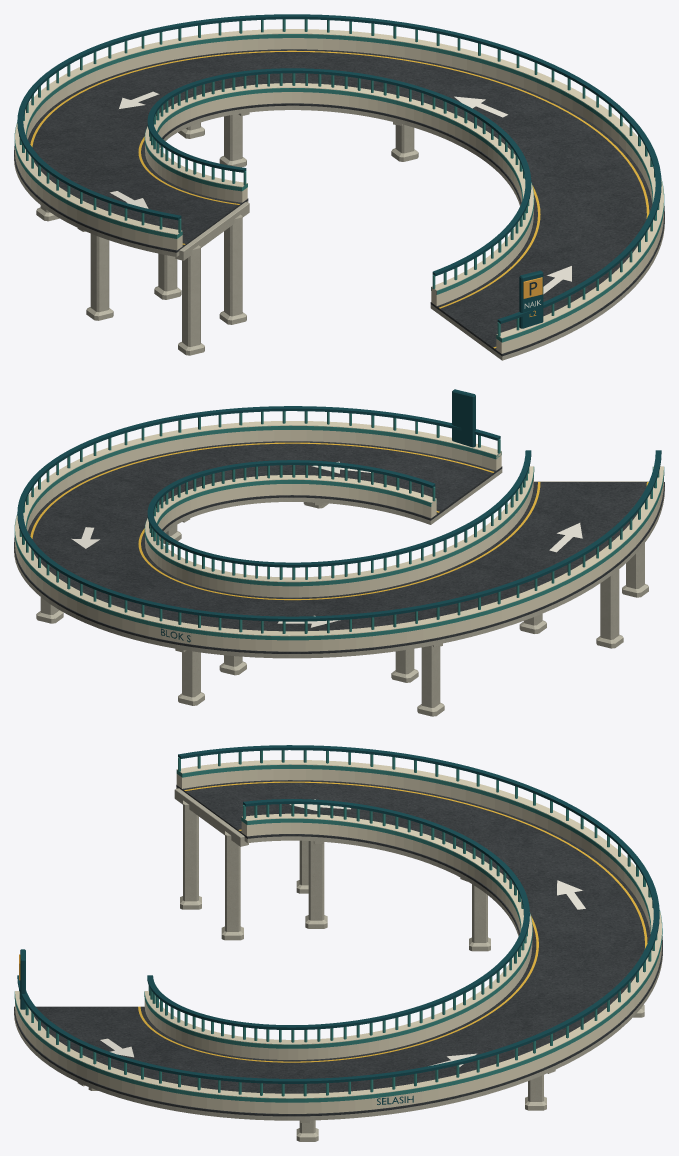
The picture shows the model from 3 angles, top to bottom: view 1: azimuth 30°, elevation 25°; view 2: azimuth 150°, elevation 25°; view 3: azimuth 270°, elevation 25°; orthographic projection.
Visible parts, largest first — view 1: Driving Surface, Safety Upstands, Continuous Guard Cap, Ramp Legs, Waist Band, Parapet Pickets, Cast Ramp Deck, Edge Lines, Entry Fin, Flow Arrows, Cap Beams; view 2: Driving Surface, Safety Upstands, Continuous Guard Cap, Waist Band, Ramp Legs, Parapet Pickets, Cast Ramp Deck, Edge Lines, Entry Fin, Flow Arrows; view 3: Driving Surface, Safety Upstands, Continuous Guard Cap, Waist Band, Ramp Legs, Parapet Pickets, Cast Ramp Deck, Edge Lines, Cap Beams, Flow Arrows.
Boxes of the visible parts, x1,y1,x2,y2 form: Driving Surface: (14, 49, 664, 356); Safety Upstands: (15, 29, 663, 353); Continuous Guard Cap: (17, 14, 661, 323); Ramp Legs: (36, 114, 418, 355); Waist Band: (14, 34, 664, 342); Parapet Pickets: (19, 19, 659, 336); Cast Ramp Deck: (14, 105, 664, 360); Edge Lines: (30, 50, 649, 348); Entry Fin: (519, 270, 543, 328); Flow Arrows: (110, 91, 571, 294); Cap Beams: (77, 112, 402, 260); Driving Surface: (14, 441, 664, 653); Safety Upstands: (15, 421, 663, 651); Continuous Guard Cap: (17, 406, 661, 621); Waist Band: (14, 425, 664, 640); Ramp Legs: (36, 502, 648, 716); Parapet Pickets: (19, 411, 659, 633); Cast Ramp Deck: (14, 469, 664, 658); Edge Lines: (30, 442, 648, 600); Entry Fin: (452, 389, 475, 447); Flow Arrows: (71, 461, 582, 627); Driving Surface: (14, 780, 662, 1116); Safety Upstands: (15, 760, 661, 1113); Continuous Guard Cap: (17, 745, 659, 1083); Waist Band: (14, 764, 662, 1102); Ramp Legs: (88, 800, 644, 1141); Parapet Pickets: (19, 750, 657, 1096); Cast Ramp Deck: (14, 787, 662, 1120); Edge Lines: (138, 781, 647, 1062); Cap Beams: (77, 788, 555, 1123); Flow Arrows: (100, 799, 585, 1066).
Bounding box in the file's own units: 20.51 × 4.92 × 20.56.
10 materials, 2 textured.
